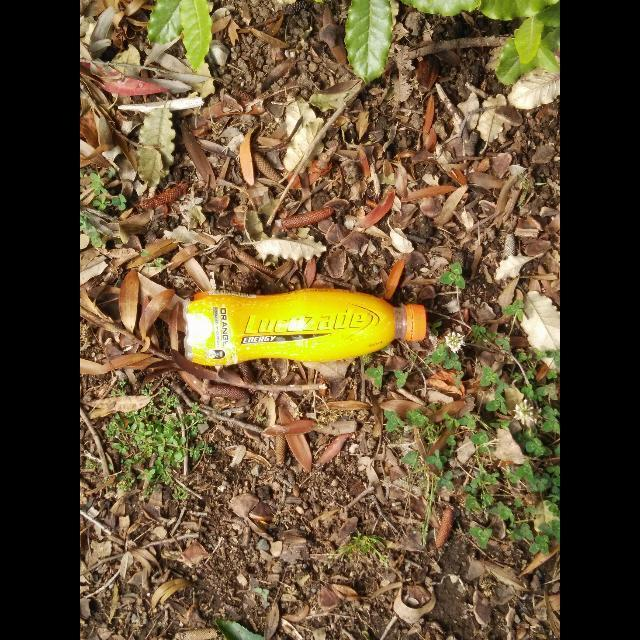Plastic: (184, 288, 426, 366), (410, 305, 426, 341)
